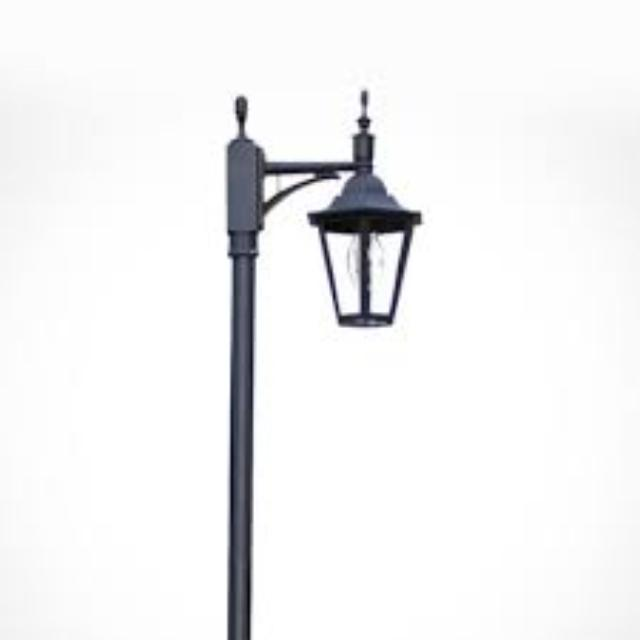Street-Lamp: (192, 58, 436, 640)
